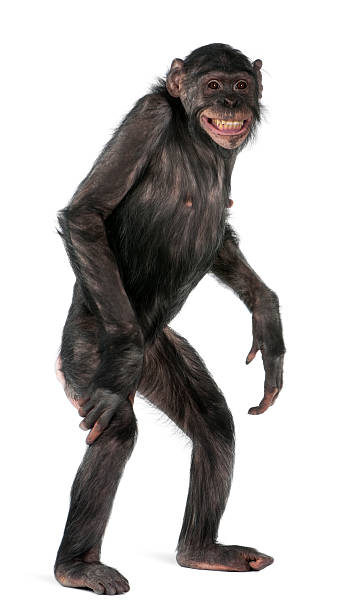chimpanzee: (139, 34, 301, 174)
